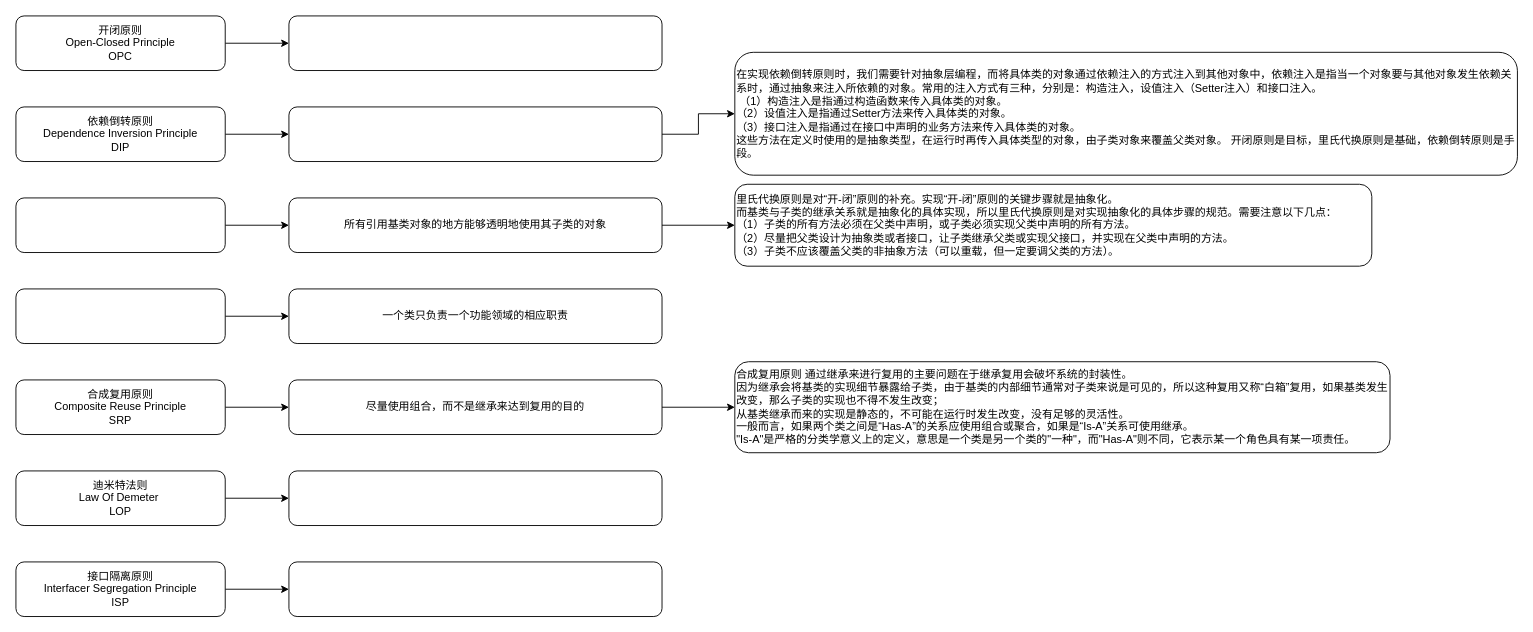
Image size: 1533x632. Some labels were removed from this diagram. Here are the shapes that lost their labels. From the top down, the centre of each, then its label:
At (475,43): "对扩展开放，对修改闭合".
At (475,134): "抽象不应该依赖于细节，细节应该依赖于抽象".
At (120,225): "里氏代换原则 Liskov Substitution Principle LSP".
At (120,316): "单一职责原则 Single Responsibility Principle SRP".
At (475,498): "一个软件实体应该尽可能少的与其他实体发生相互作用".
At (475,589): "使用多个专用的接口，而不是使用单一的接口".
